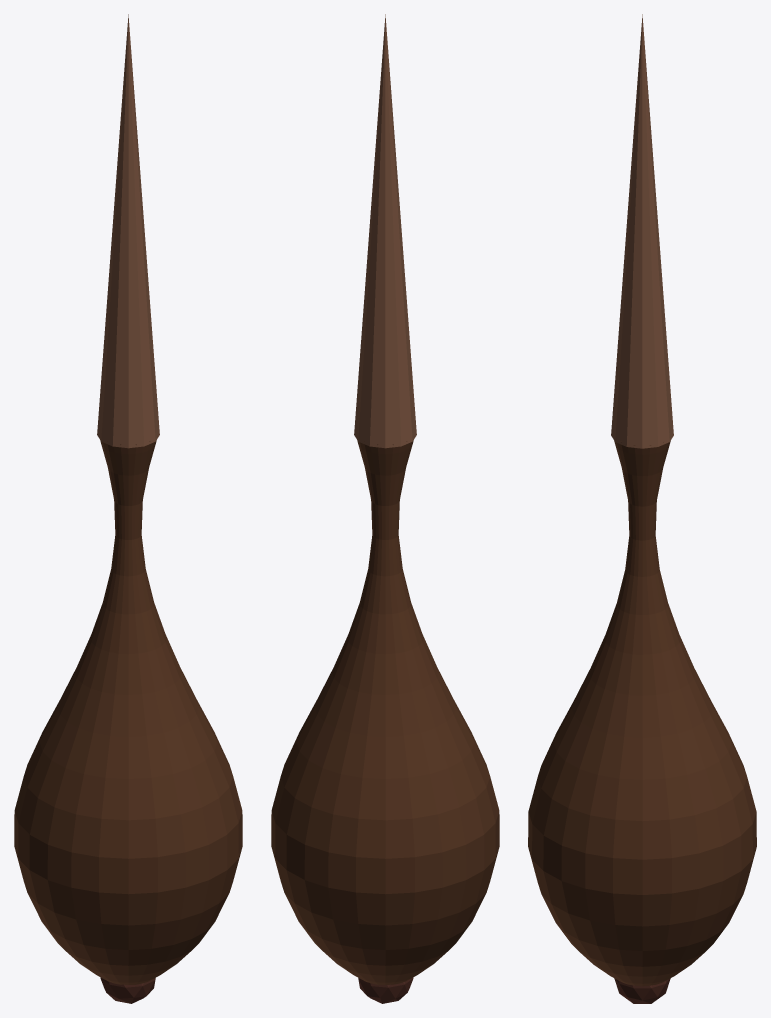
The model's file is Wand 920.glb.
The picture shows the model from 3 angles, left to right: view 1: azimuth 30°, elevation 25°; view 2: azimuth 150°, elevation 25°; view 3: azimuth 270°, elevation 25°; orthographic projection.
Parts seen in each view (by area): view 1: GeneratedWand; view 2: GeneratedWand; view 3: GeneratedWand.
Boxes of the visible parts, left/top/right/bottom form: GeneratedWand: left=14, top=14, right=242, bottom=1003; GeneratedWand: left=271, top=14, right=499, bottom=1003; GeneratedWand: left=528, top=14, right=756, bottom=1003.
Size of the model in its own units: 0.1026 by 0.489 by 0.1026.
